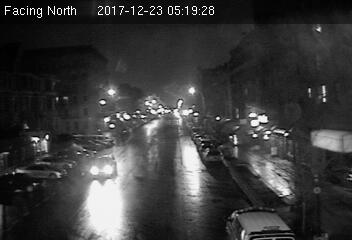car: (89, 153, 117, 180), (203, 148, 223, 163)
police: (220, 205, 287, 240)
